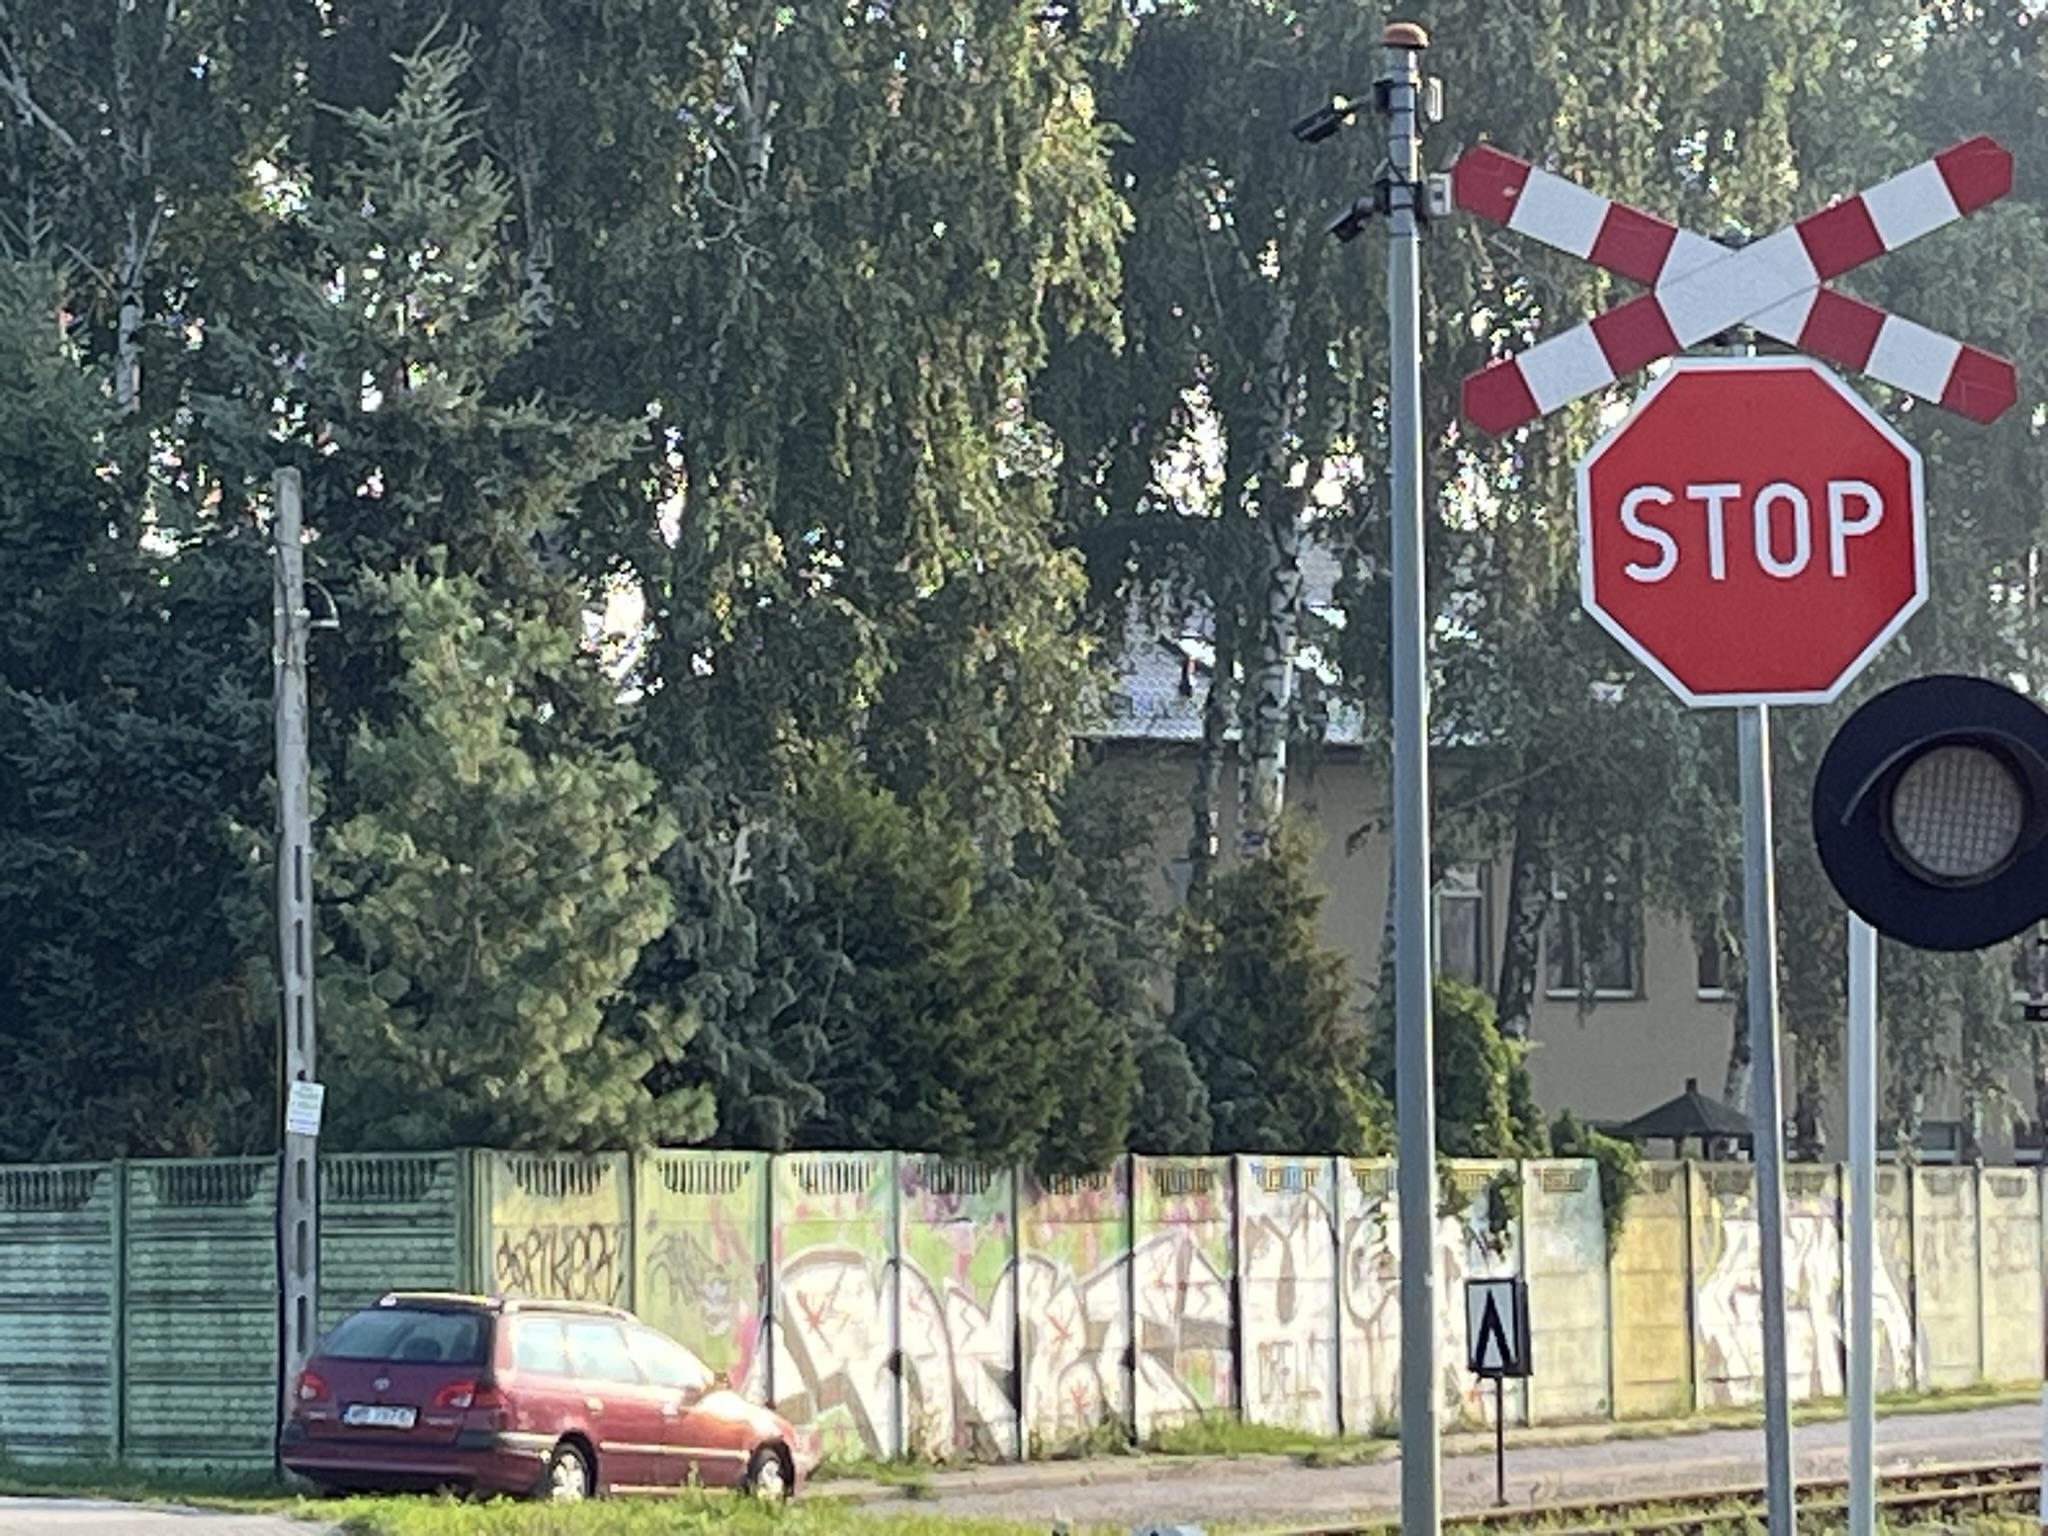prohibitory: (1576, 357, 1932, 708)
